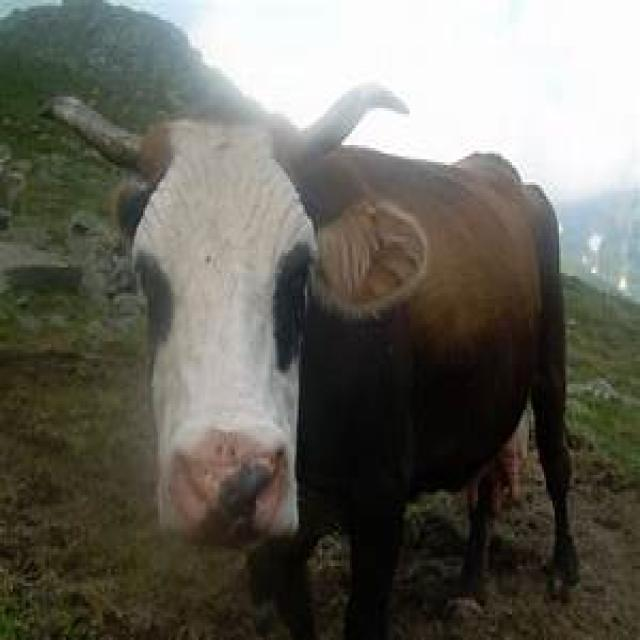cow: (49, 85, 578, 640)
